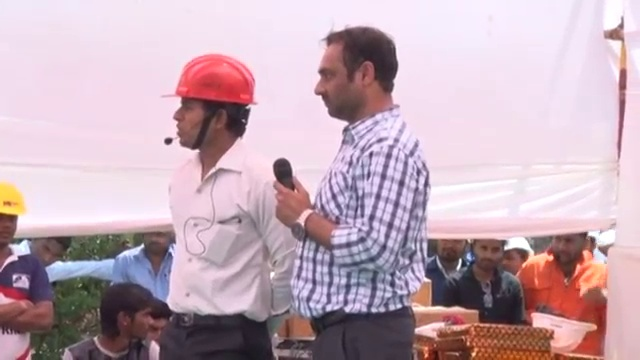helmet: (154, 53, 270, 106), (528, 308, 597, 357), (0, 183, 33, 218), (504, 234, 535, 260)
helmet_off: (313, 28, 401, 122), (94, 282, 154, 352), (547, 230, 592, 267), (25, 237, 69, 273), (473, 236, 509, 278), (140, 227, 175, 261), (436, 234, 466, 265)
helmet_on: (153, 52, 269, 162), (0, 179, 33, 253), (508, 235, 535, 276)
person: (274, 30, 444, 360), (153, 52, 298, 352), (519, 228, 611, 345), (0, 187, 58, 356), (61, 282, 163, 359), (444, 241, 527, 320), (115, 223, 182, 304), (421, 233, 477, 306)
